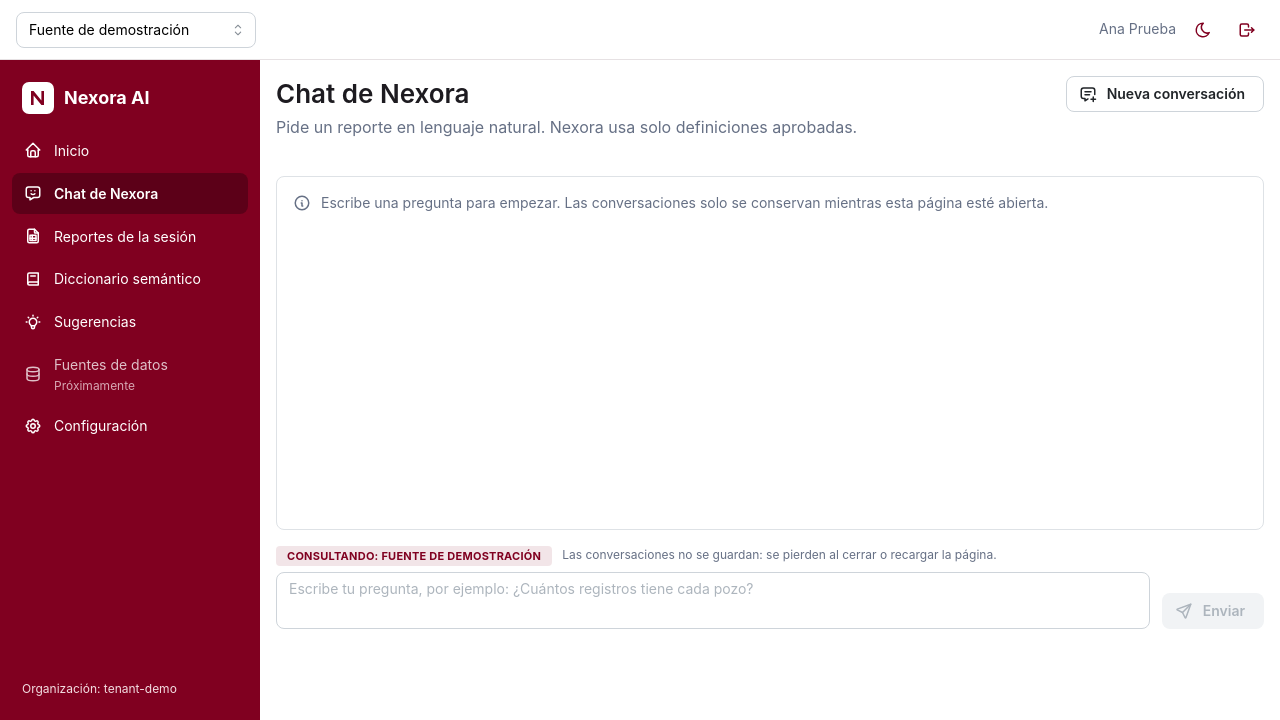
Test: chat with Nexora (F2/F3/F4 flows, synthetic) › an unknown outcome is retried with the same key and the same body
The image size is (1280, 720).
Type "Total de registros" into the text box labelled "Escribe tu pregunta".
click(713, 600); type("Total de registros")  # box [276, 572, 1150, 629]
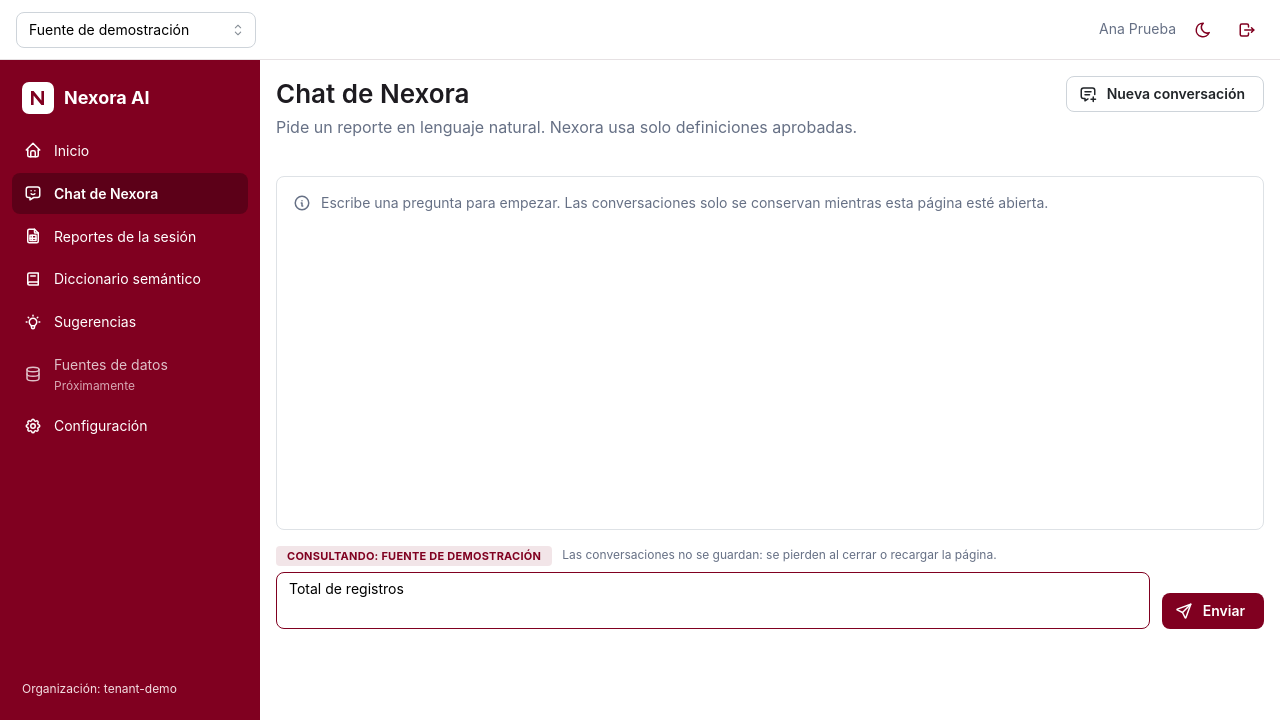
Click the button "Enviar".
click(1213, 611)  # box [1162, 593, 1264, 629]
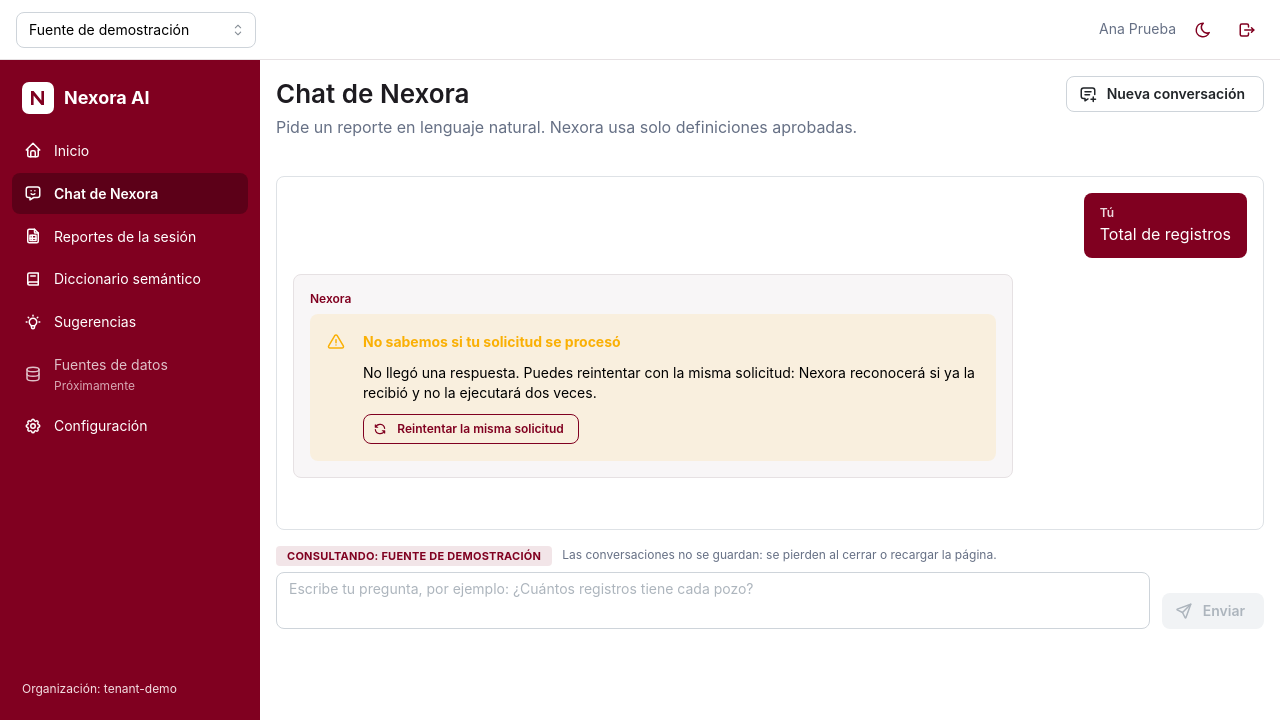
Click the button "Reintentar la misma solicitud".
click(471, 429)  # box [363, 414, 579, 444]
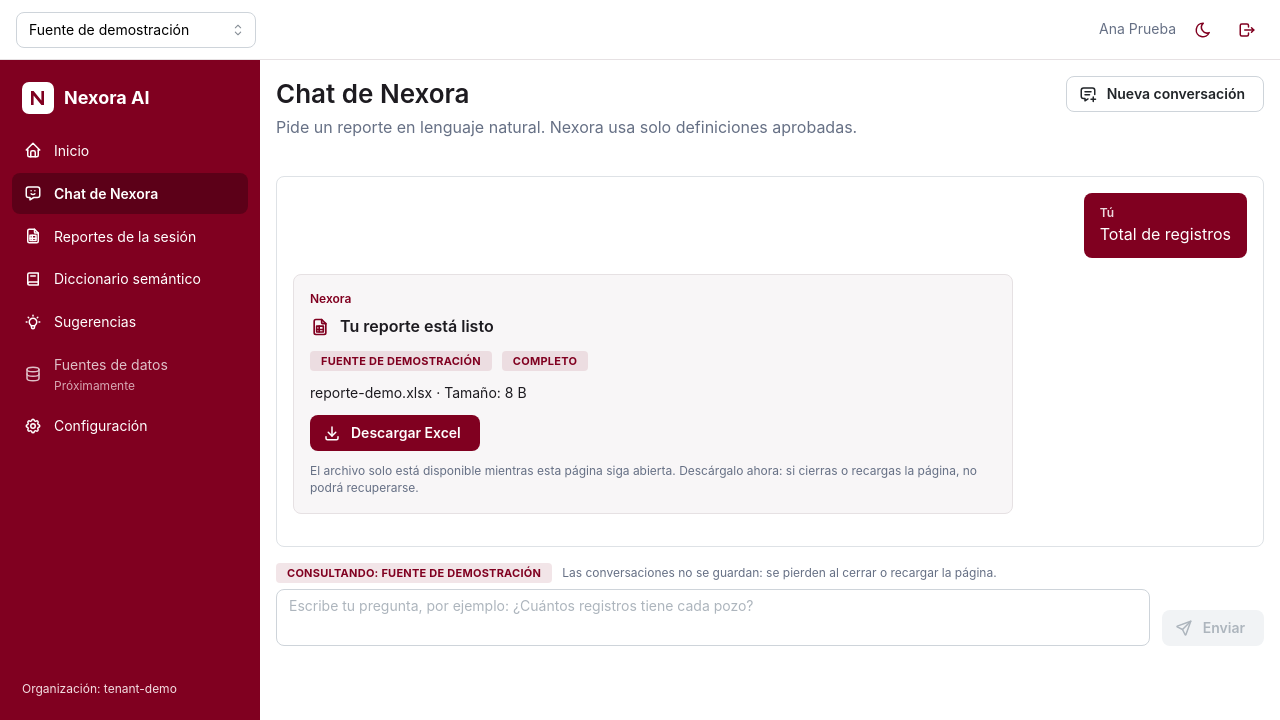
Result: the text "Tu reporte está listo" is shown at [340, 314, 494, 339]
